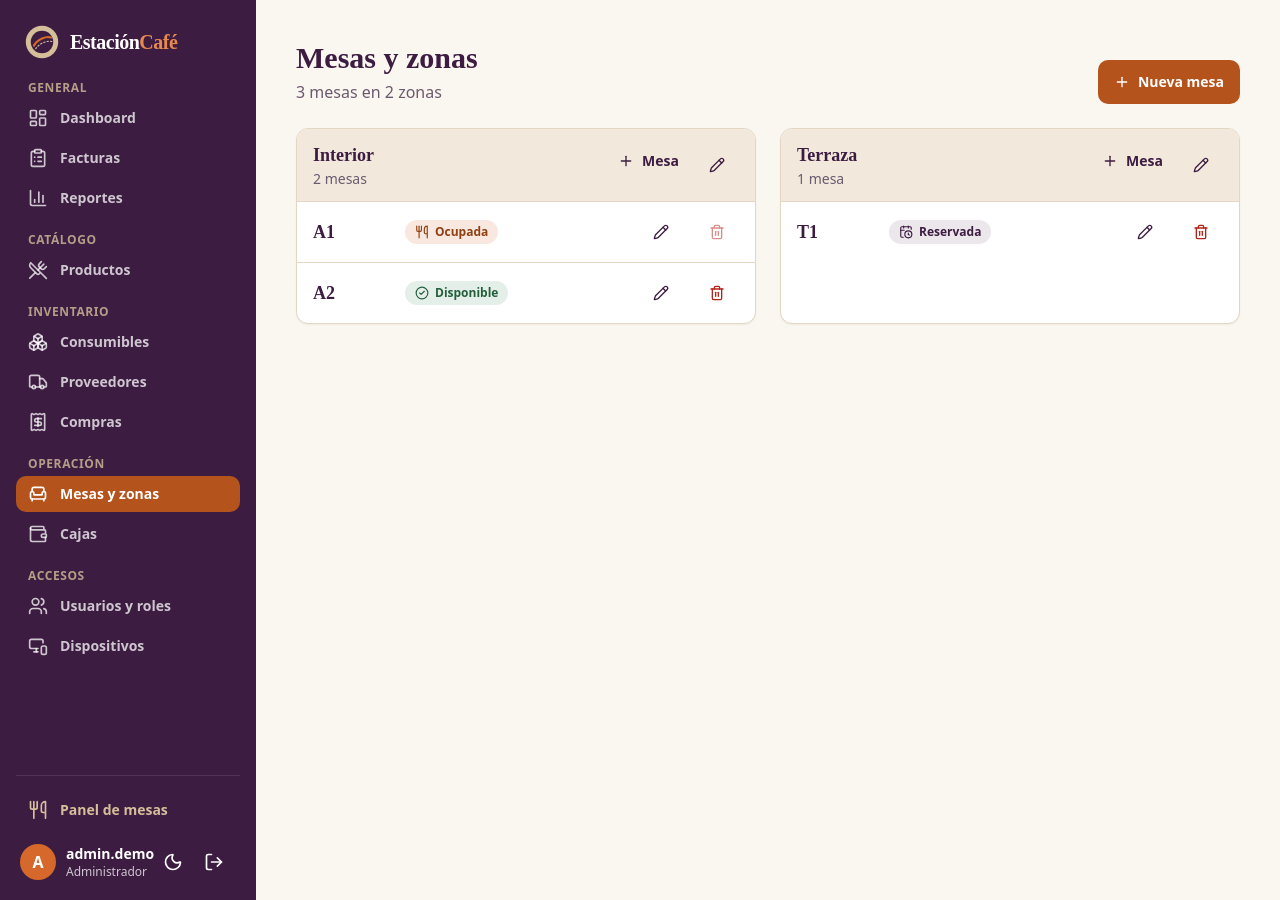
Scenario: Mesas y zonas (admin) › no elimina mesas ocupadas ni con historial, y renombra zonas
Expected: the button named "Eliminar mesa A1" is disabled, [695, 210, 739, 254]
Click the button named "Eliminar mesa A2" at (717, 293), box [695, 271, 739, 315]
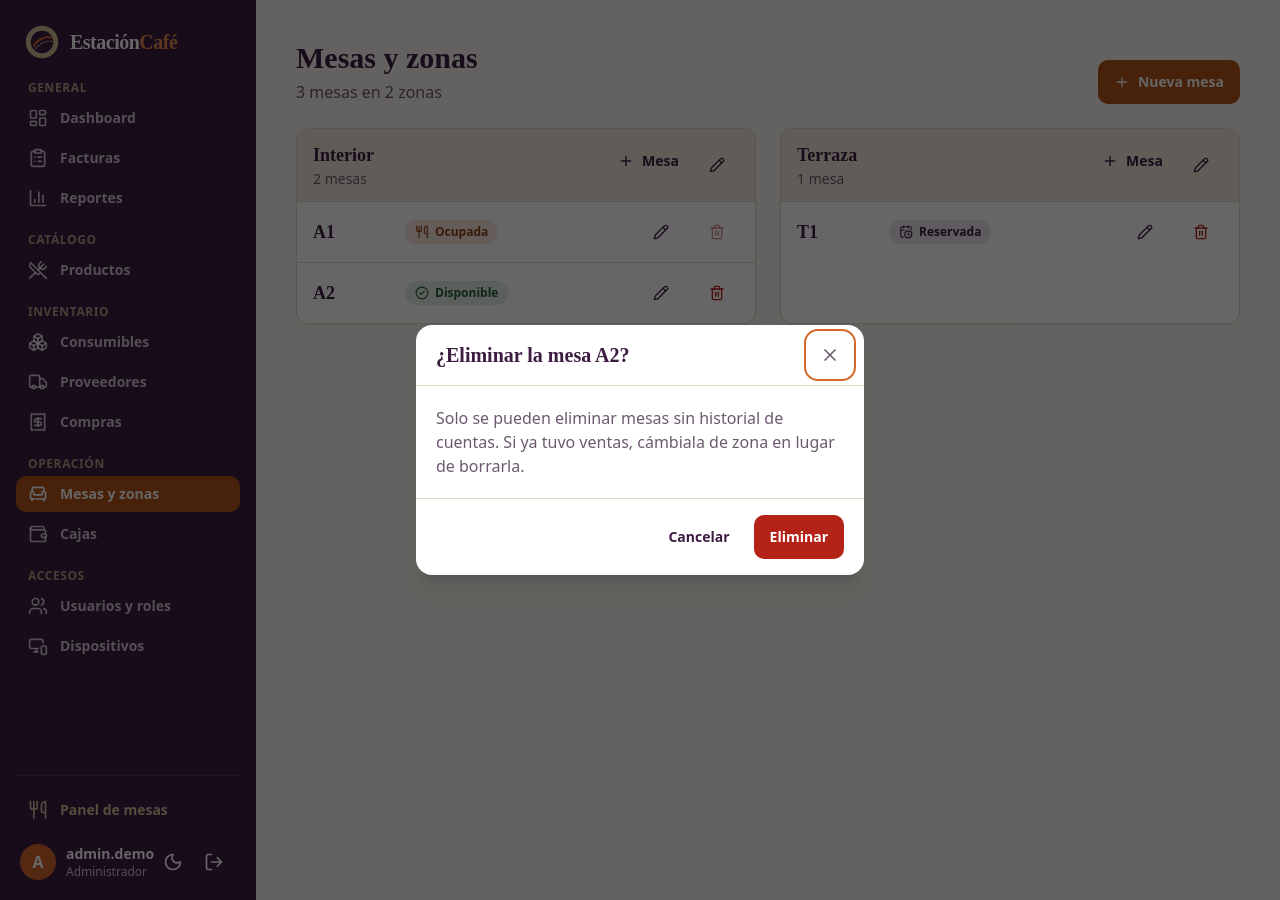
Click the button "Eliminar" at (799, 537), box [754, 515, 844, 559]
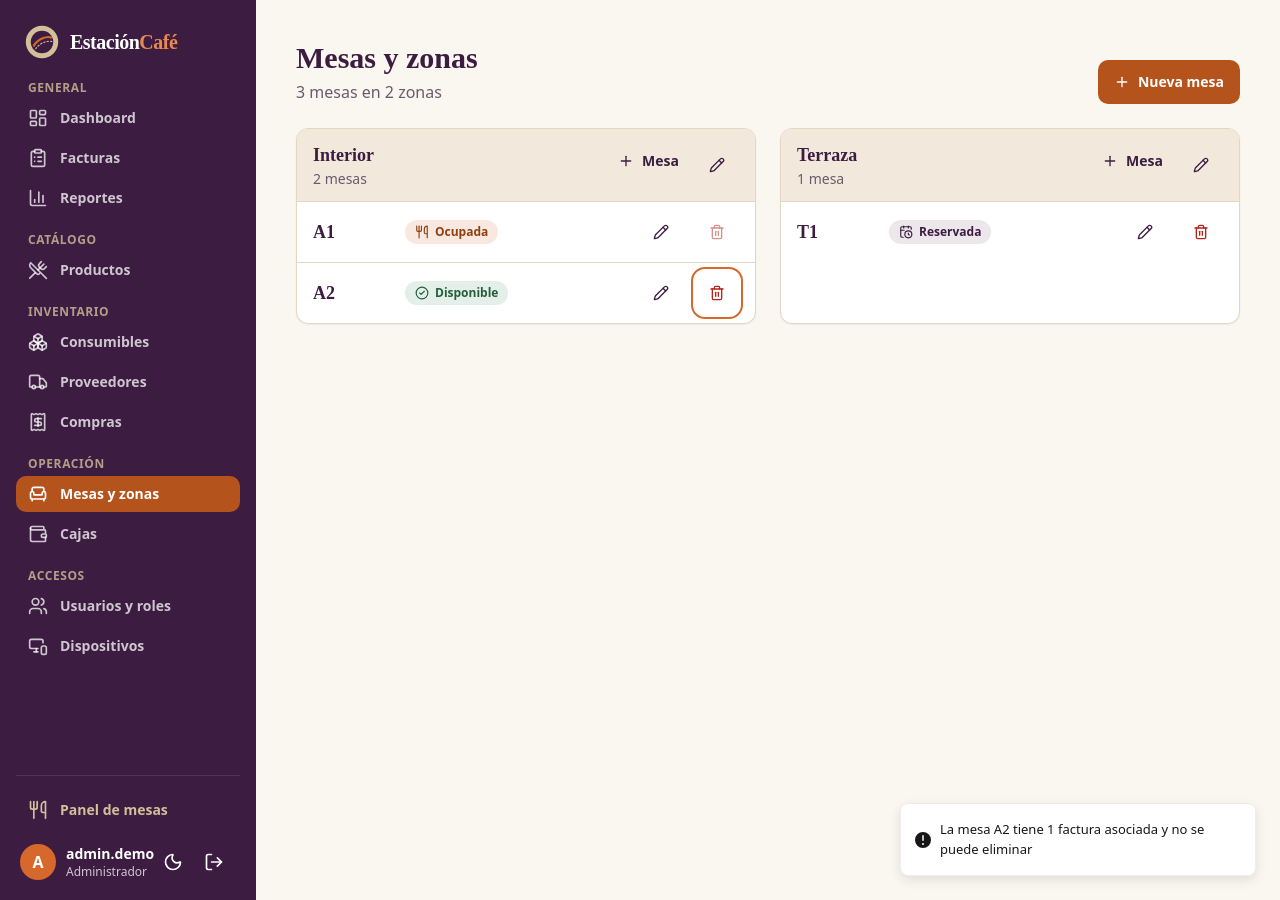
Result: the text "La mesa A2 tiene 1 factura asociada y no se puede eliminar" is shown at [940, 820, 1239, 859]
Click the button named "Renombrar zona Interior" at (717, 165), box [695, 143, 739, 187]
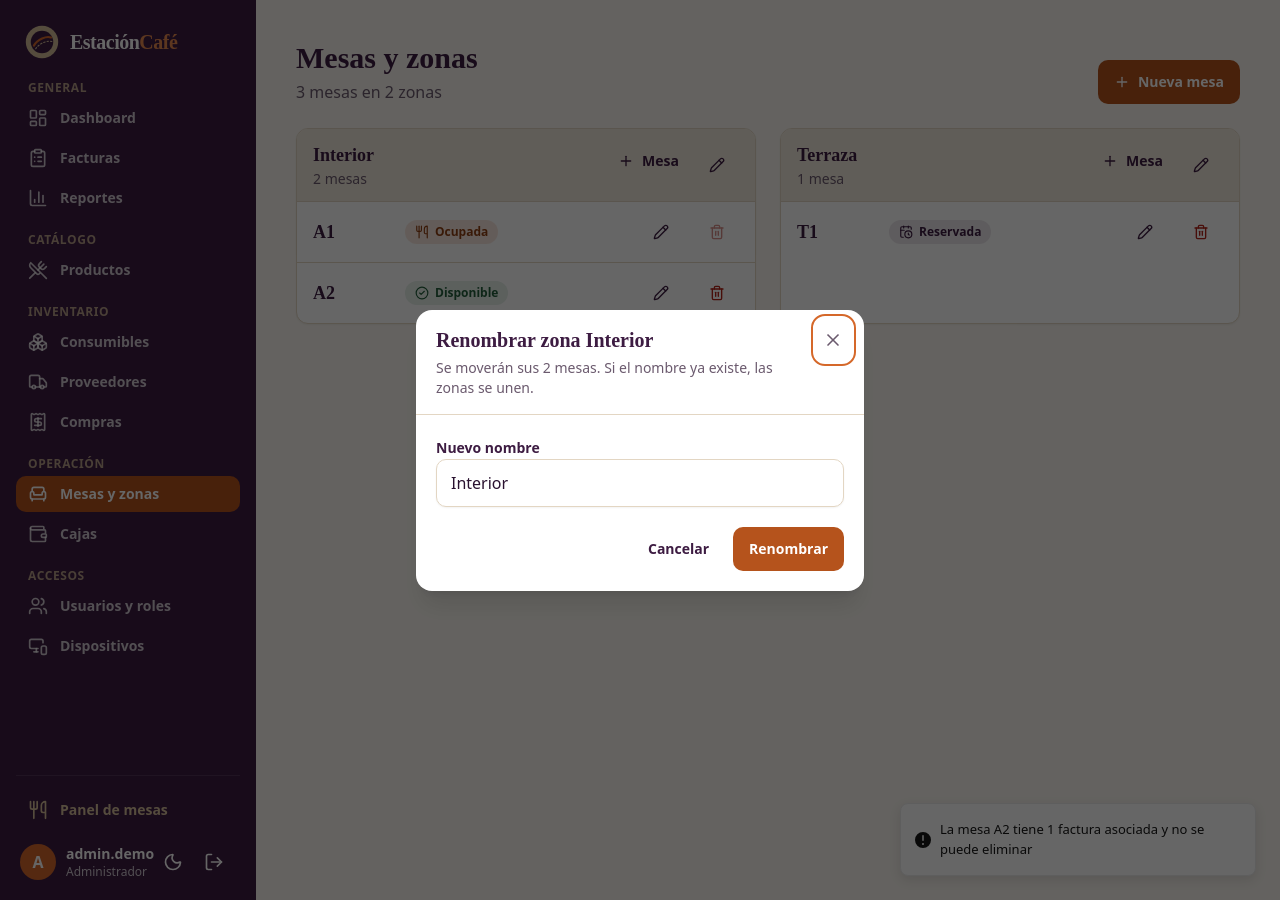
Replace the text in the field labelled "Nuevo nombre" with "Salón" at (640, 482), box [436, 458, 844, 506]
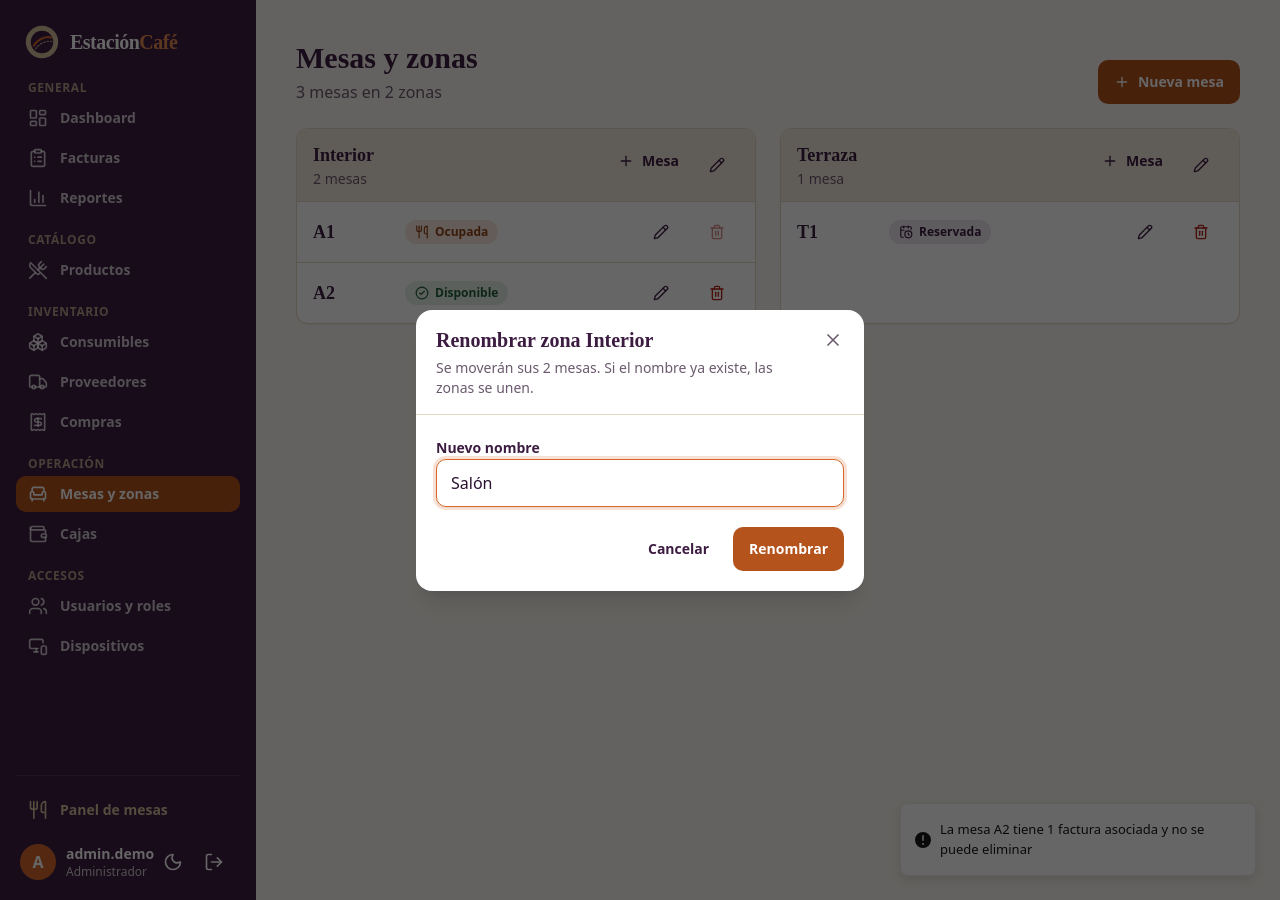
Click the button "Renombrar" at (789, 548), box [733, 526, 844, 570]
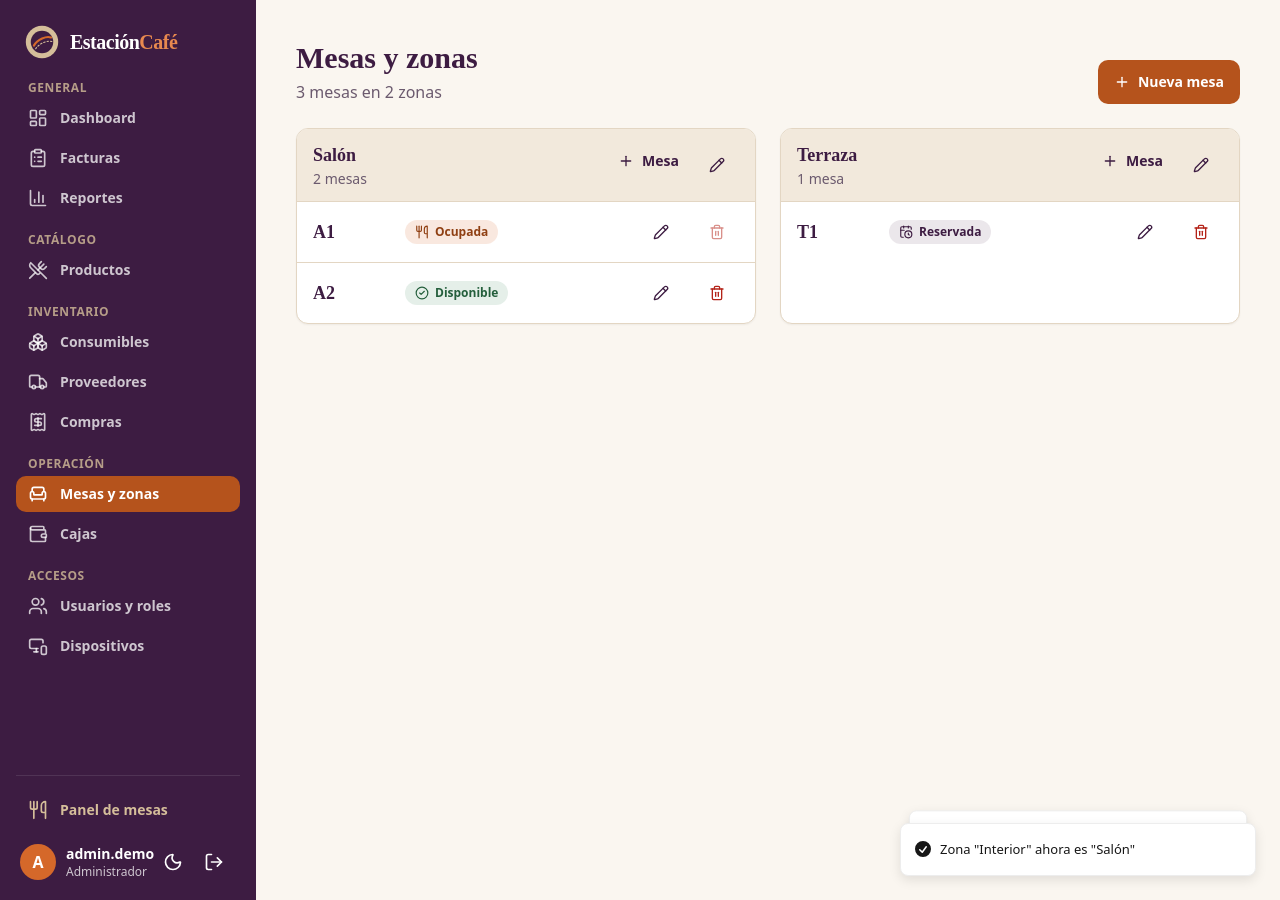
Result: the heading "Salón" is shown at [313, 145, 356, 165]
